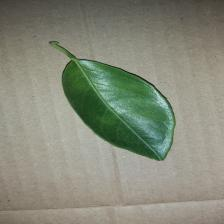greening: (48, 36, 182, 163)
